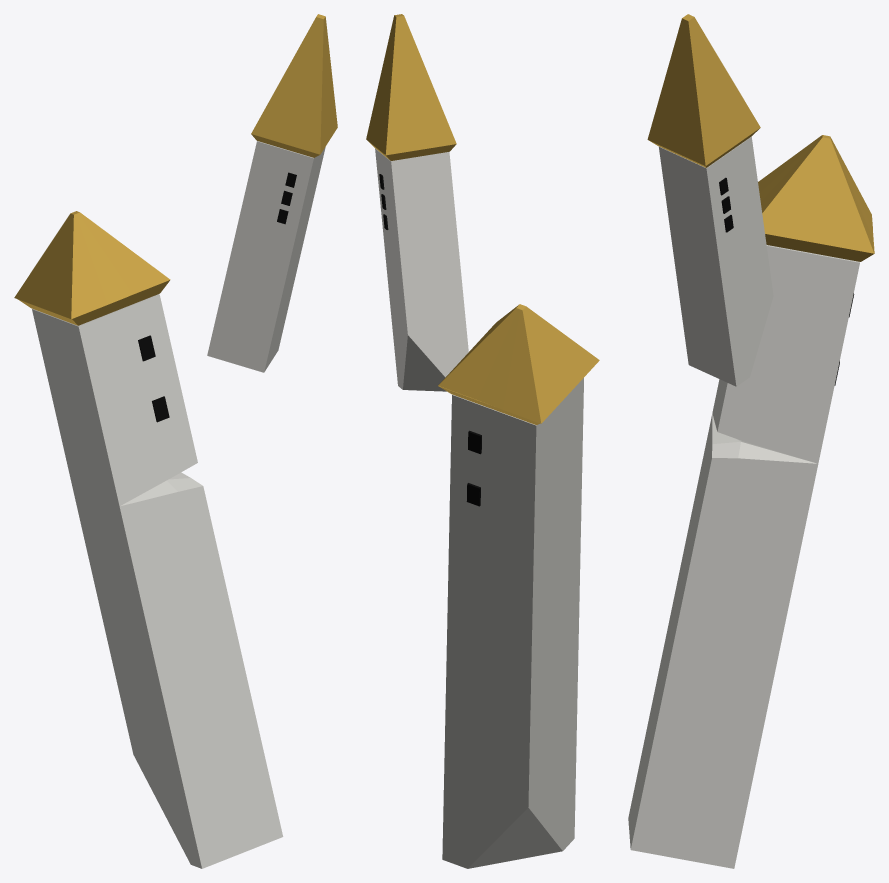
File: poleA.fbx
The picture shows the model from 3 angles, left to right: view 1: azimuth 30°, elevation 25°; view 2: azimuth 150°, elevation 25°; view 3: azimuth 270°, elevation 25°; orthographic projection. The views are drawn at different scales.
Visible parts, largest first — view 1: pCube12, pCube33; view 2: pCube12, pCube33; view 3: pCube12, pCube33.
Boxes of the visible parts, x1=… form: pCube12: x1=14, y1=211, x2=283, y2=868; pCube33: x1=207, y1=14, x2=337, y2=372; pCube12: x1=438, y1=304, x2=599, y2=868; pCube33: x1=366, y1=14, x2=468, y2=391; pCube12: x1=628, y1=135, x2=874, y2=868; pCube33: x1=647, y1=14, x2=773, y2=386.
Bounding box in the file's own units: 320 × 992 × 249.
